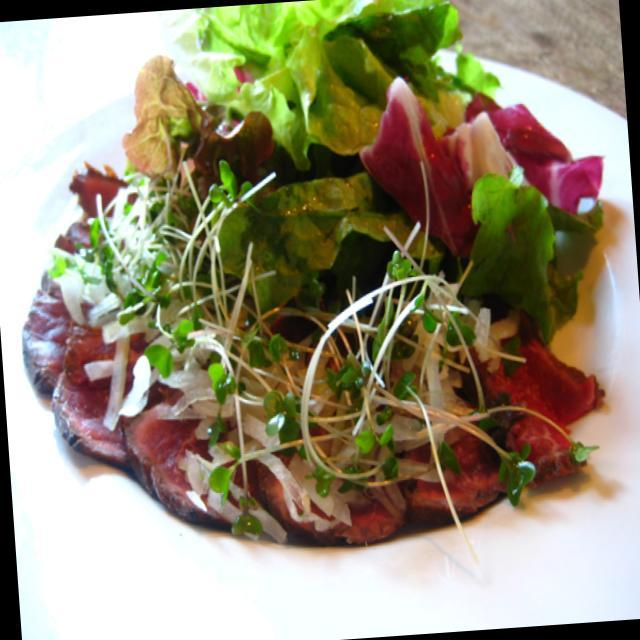Green Salad: (78, 34, 570, 508)
